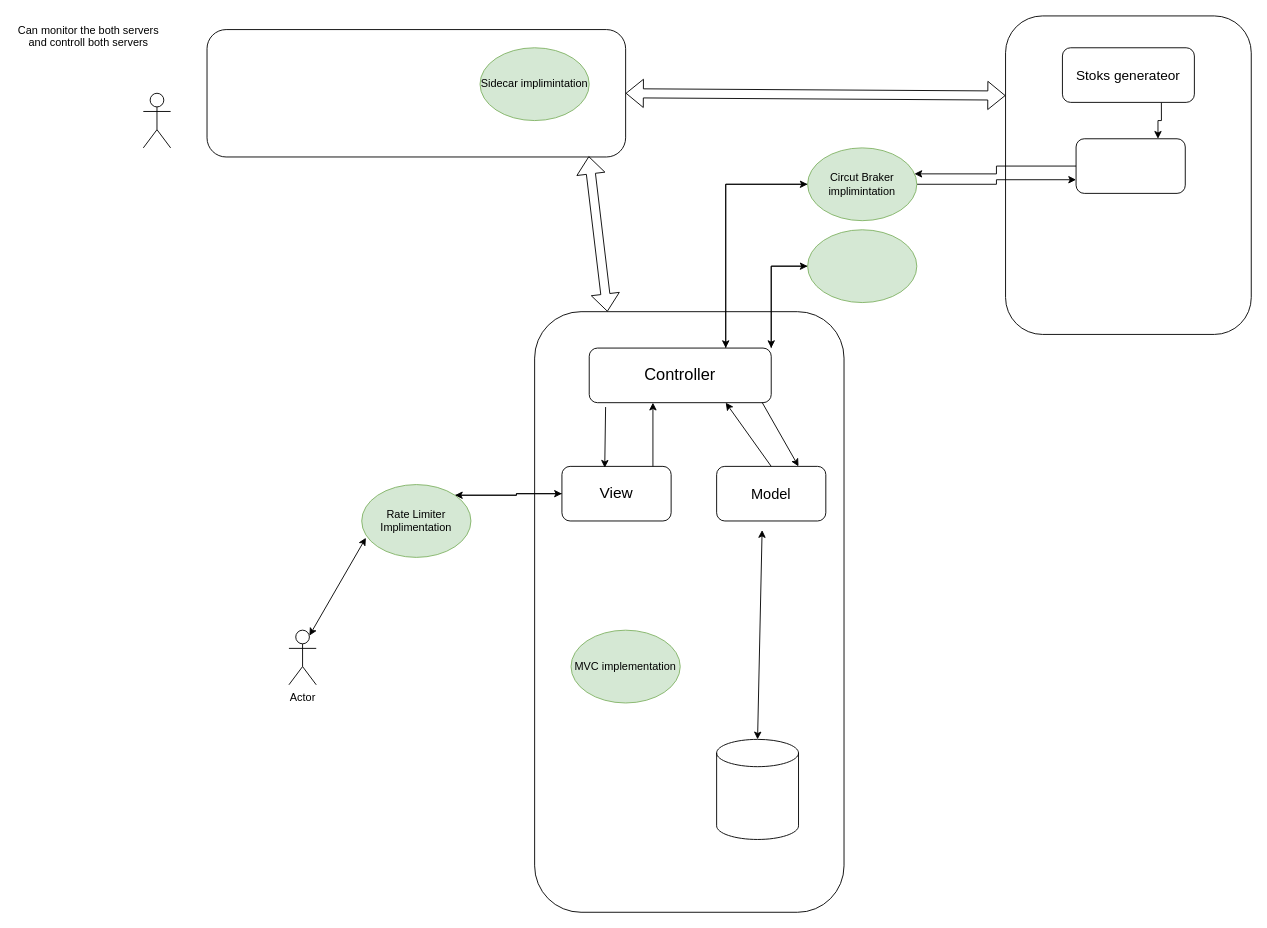
The diagram is 1267 pixels wide and 928 high, and some of its shapes have lost their labels. The centre of each missing label's shape, as x and y in pixels:
"API Getway" goes at point (1130, 165).
"Cache-Aside implementation" goes at point (862, 266).
"DB" goes at point (757, 788).
"Watcher" goes at point (156, 120).
